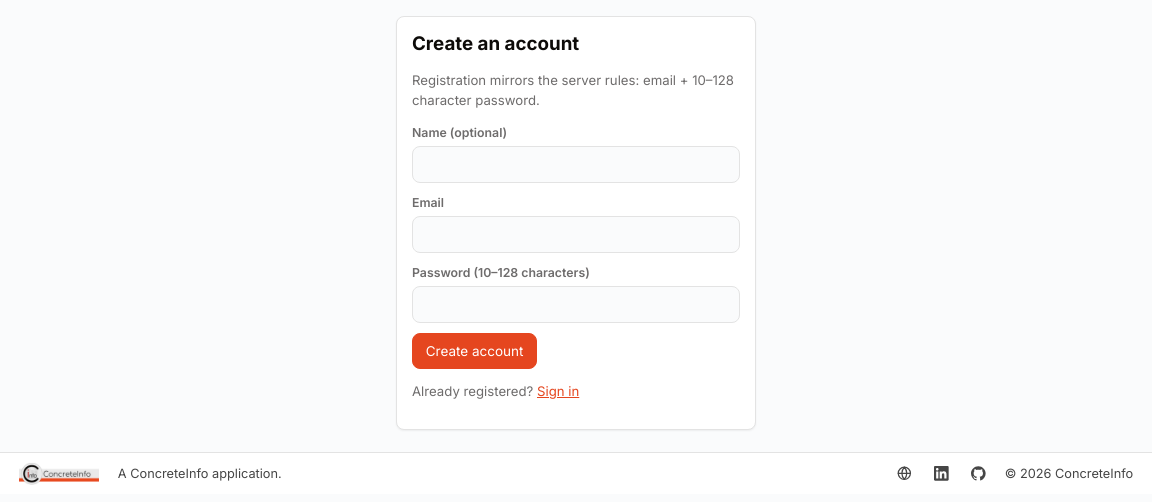
Test case: RegisterPage › shows the check-your-inbox panel and does not navigate
Step 1. Type "a@b.co" into the field labelled "Email" → (576, 235), box [412,216,740,253]
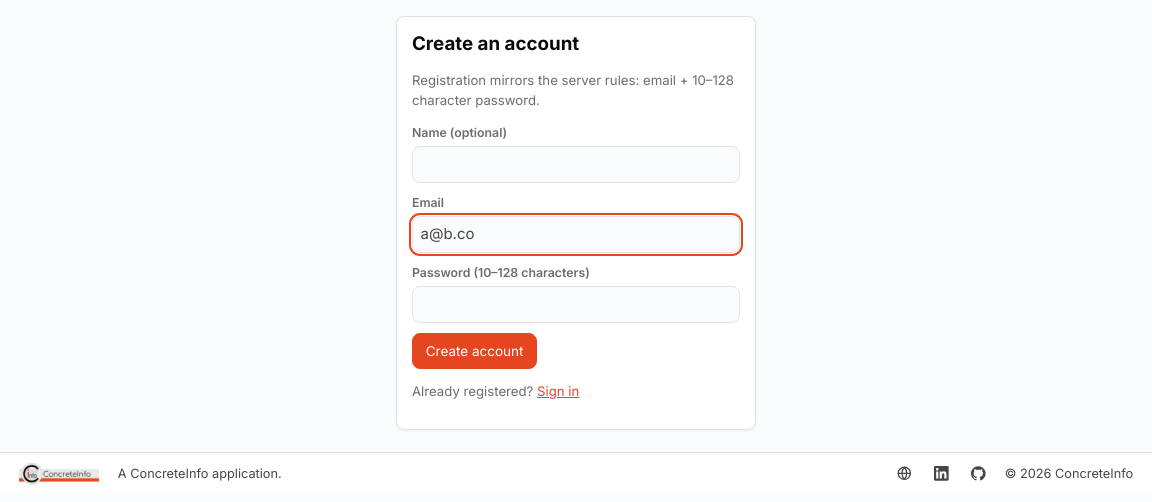
Step 2. Type "longenoughpass" into the password field labelled "Password (10–128 characters)" → (576, 304), box [412,286,740,323]
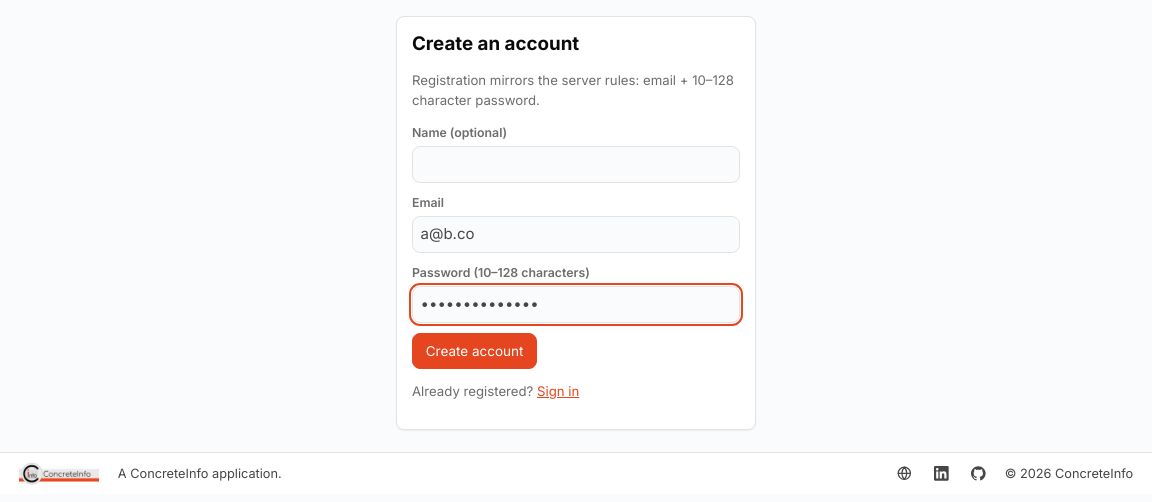
Step 3. Click the button "Create account" → (475, 351), box [412,333,537,369]
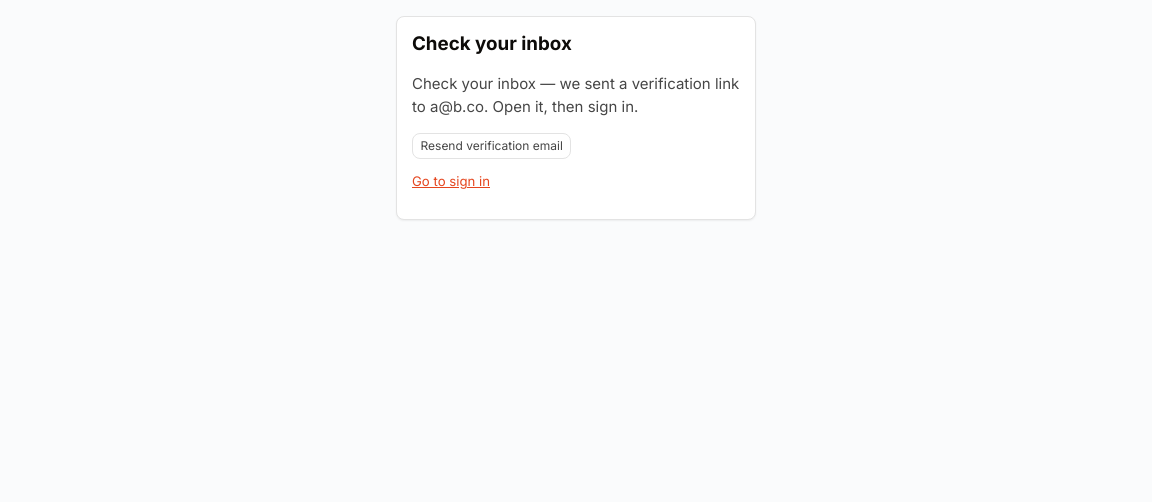
Expected: the heading "Check your inbox" is shown, [412,32,572,55]
Expected: the text "we sent a verification link to a@b.co" is shown, [412,73,740,118]
